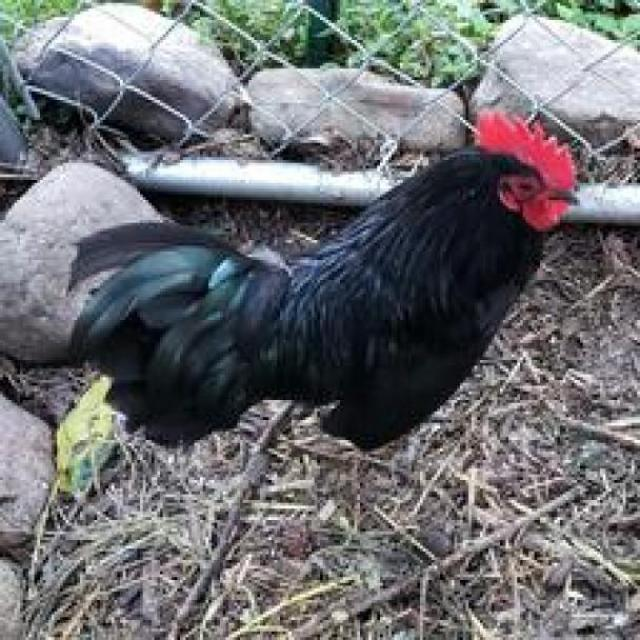Chicken: (66, 103, 626, 574)
